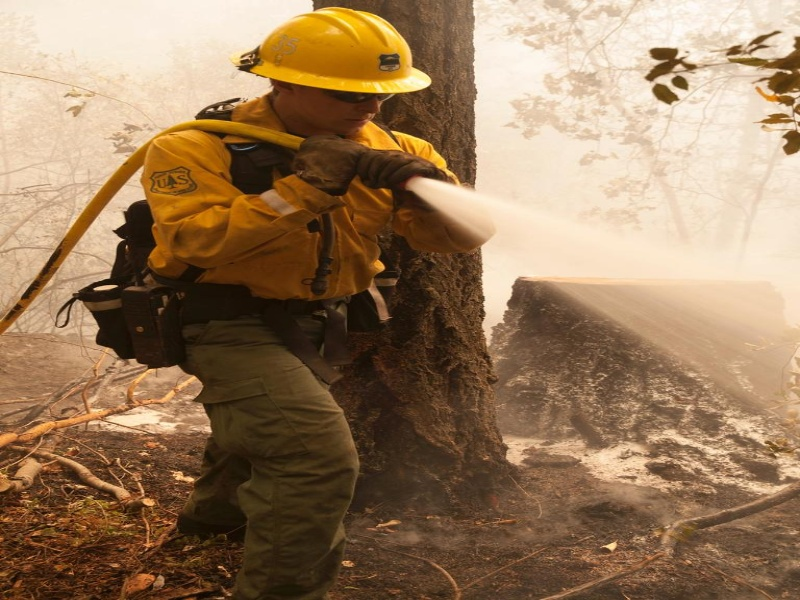helmet: (242, 7, 434, 94)
jacket: (147, 105, 406, 291)
